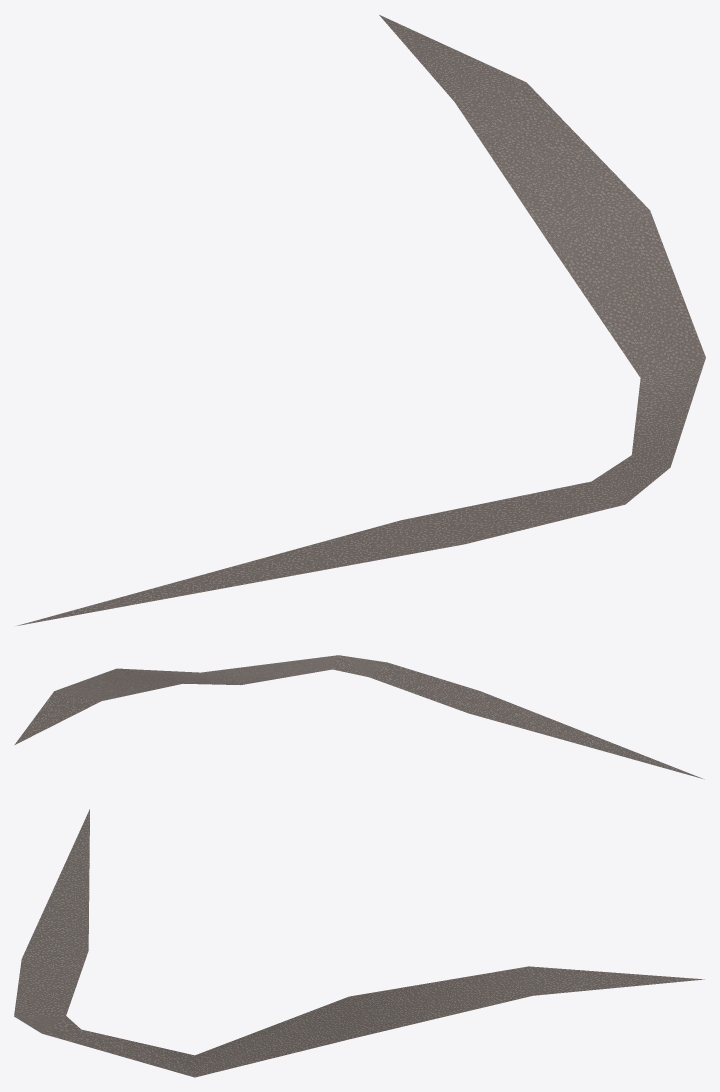
File: kd_stage_135c43_4_139_bounded_piece_3.glb
3 views of the same model, one above another, from view 1: azimuth 30°, elevation 25°; view 2: azimuth 150°, elevation 25°; view 3: azimuth 270°, elevation 25° (orthographic). The views are drawn at different scales.
Parts seen in each view (by area): view 1: kd_stage_135c43_4_139_bounded_piece_3; view 2: kd_stage_135c43_4_139_bounded_piece_3; view 3: kd_stage_135c43_4_139_bounded_piece_3.
Part boxes in pixels (left/top/right/bottom): kd_stage_135c43_4_139_bounded_piece_3: left=17, top=15, right=705, bottom=625; kd_stage_135c43_4_139_bounded_piece_3: left=14, top=655, right=704, bottom=779; kd_stage_135c43_4_139_bounded_piece_3: left=14, top=809, right=704, bottom=1077.
Size of the model in its own units: 2.56 by 0.4681 by 2.38.
Materials: 1 (1 with a texture image).
